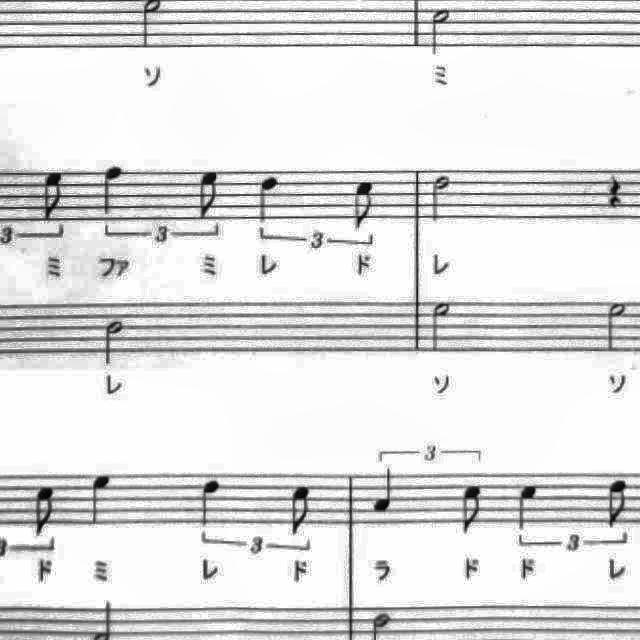Eighth-note: (454, 481, 490, 543), (27, 482, 63, 542), (282, 482, 318, 542), (599, 472, 635, 532), (192, 168, 228, 228), (347, 175, 381, 235), (36, 166, 70, 226)
Half-note: (598, 294, 636, 356), (424, 295, 456, 357), (97, 316, 131, 372), (424, 169, 456, 227), (426, 3, 458, 61)
Quarter-note: (83, 468, 119, 532), (192, 472, 230, 532), (94, 159, 130, 217), (252, 169, 288, 227), (368, 464, 404, 518), (509, 478, 543, 534)
Quarter-rest: (603, 167, 633, 216)
